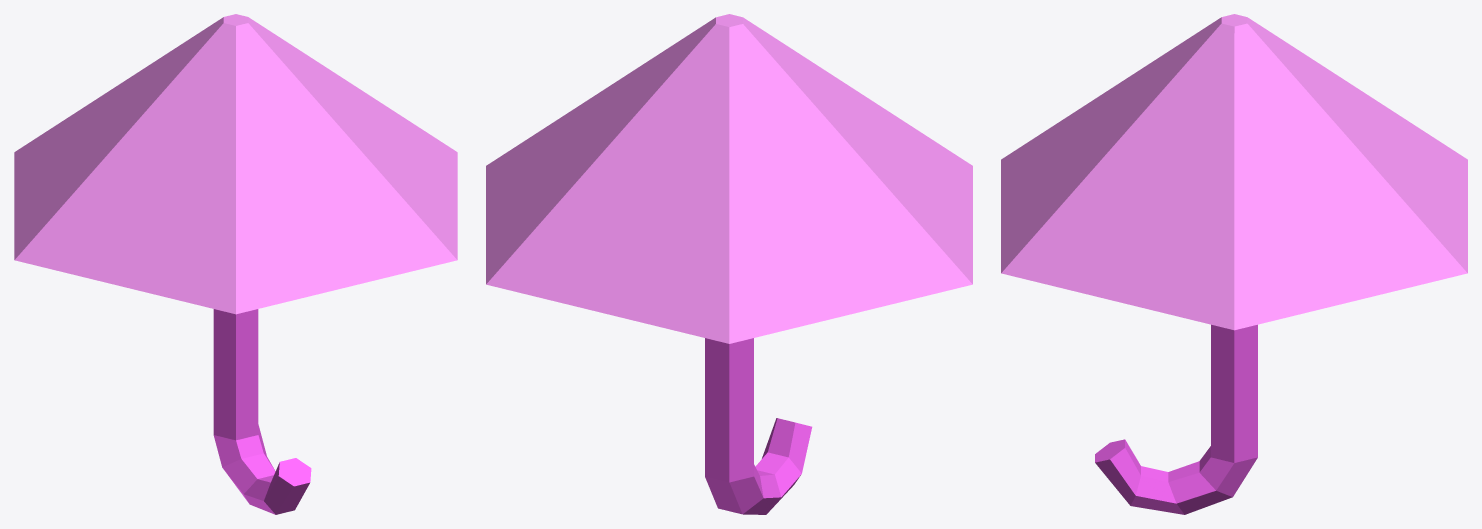
Rendered from Umbrella.fbx.
The picture shows the model from 3 angles, left to right: view 1: azimuth 30°, elevation 25°; view 2: azimuth 150°, elevation 25°; view 3: azimuth 270°, elevation 25°; orthographic projection. The views are drawn at different scales.
Visible parts, largest first — view 1: Umbrella; view 2: Umbrella; view 3: Umbrella.
Boxes of the visible parts, x1,y1,x2,y2 form: Umbrella: (14,14,457,514); Umbrella: (486,14,972,514); Umbrella: (1001,14,1467,514).
Bounding box in the file's own units: 225 × 226 × 195.
